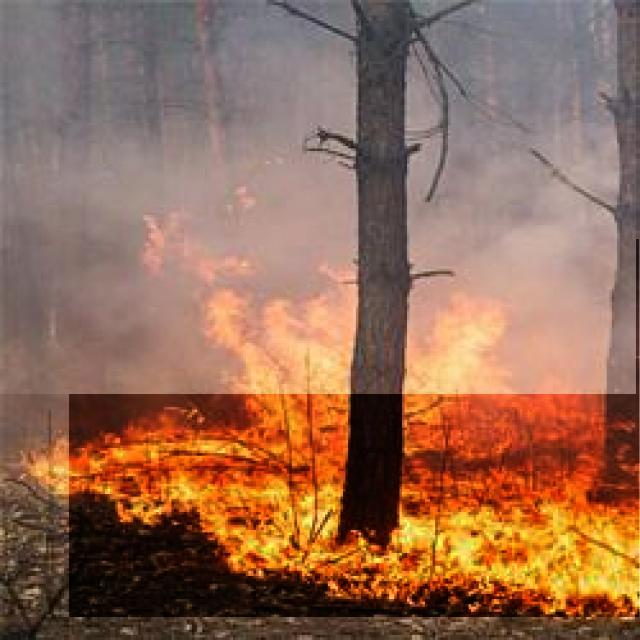Fire: (69, 239, 639, 617)
Smoke: (0, 0, 636, 394)
